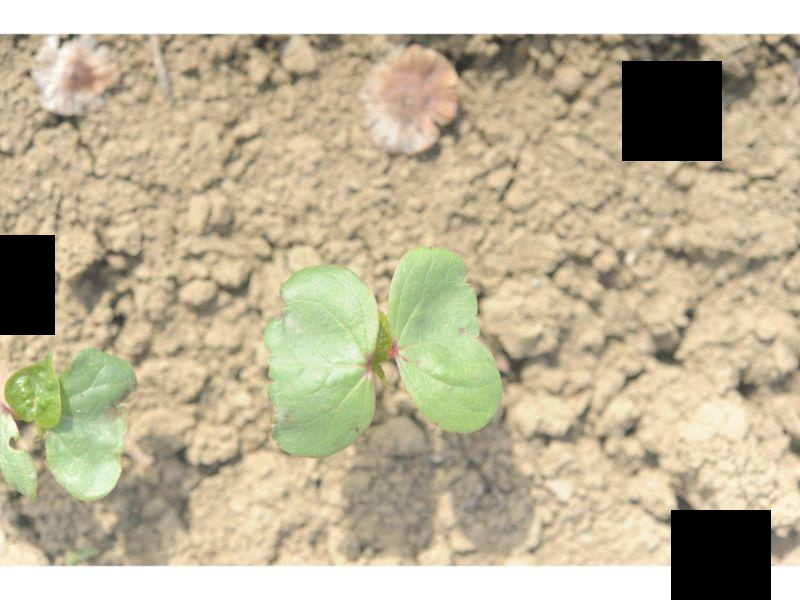cotton: (264, 242, 503, 459), (3, 348, 138, 503)
